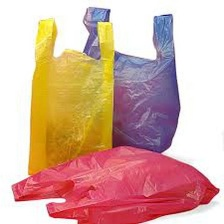plastic_bag: (5, 143, 220, 224), (73, 2, 185, 154), (23, 17, 117, 179)
